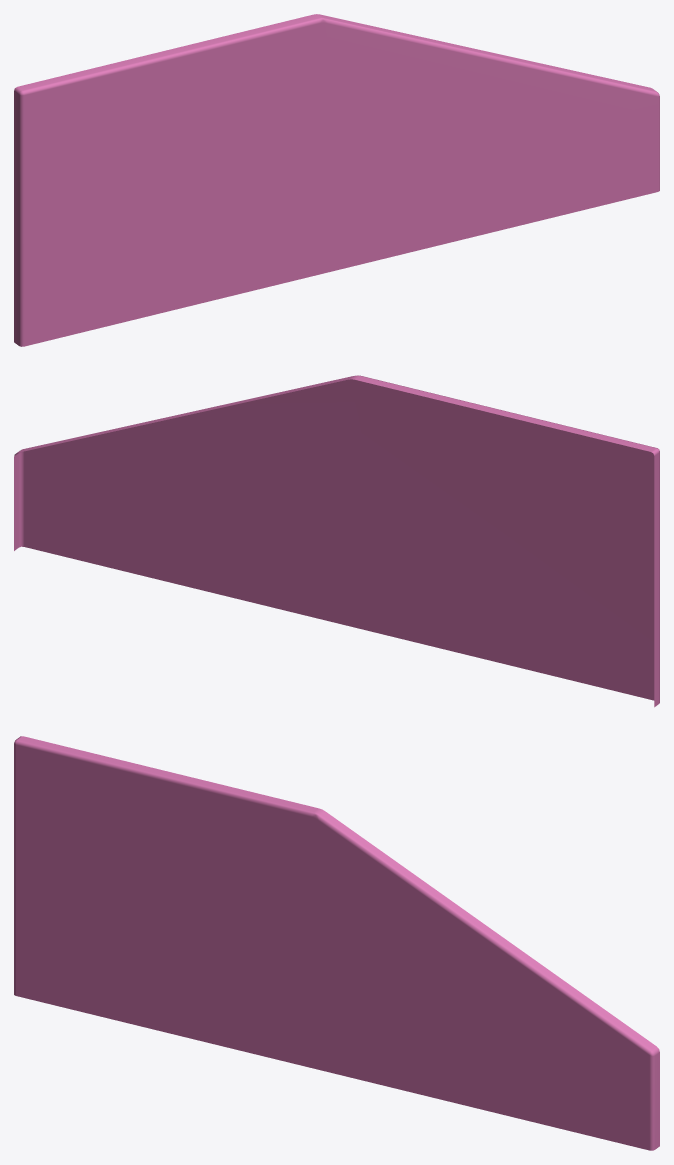
File: S_StairsTrim.fbx
3 renders of one model, top to bottom at view 1: azimuth 30°, elevation 25°; view 2: azimuth 150°, elevation 25°; view 3: azimuth 330°, elevation 25°, orthographic.
Visible parts, largest first — view 1: S_StairsTrim; view 2: S_StairsTrim; view 3: S_StairsTrim.
Boxes of the visible parts, <box> form: S_StairsTrim: <box>14,14,659,346</box>; S_StairsTrim: <box>14,375,659,707</box>; S_StairsTrim: <box>14,736,659,1150</box>.
Bounding box in the file's own units: 137 × 51.94 × 2.59.
